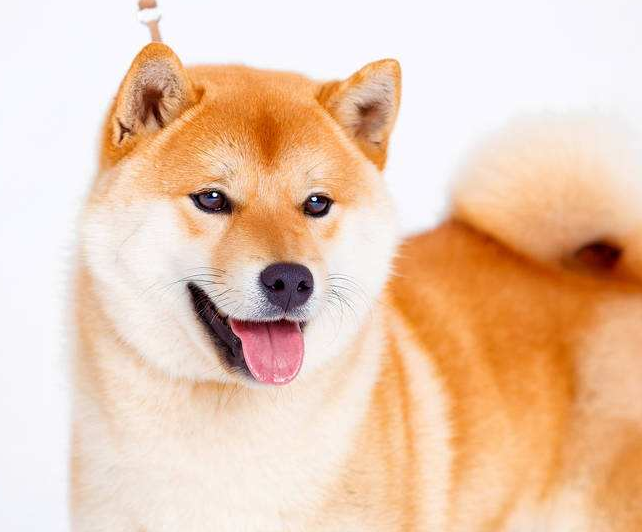nose: (253, 254, 329, 319)
